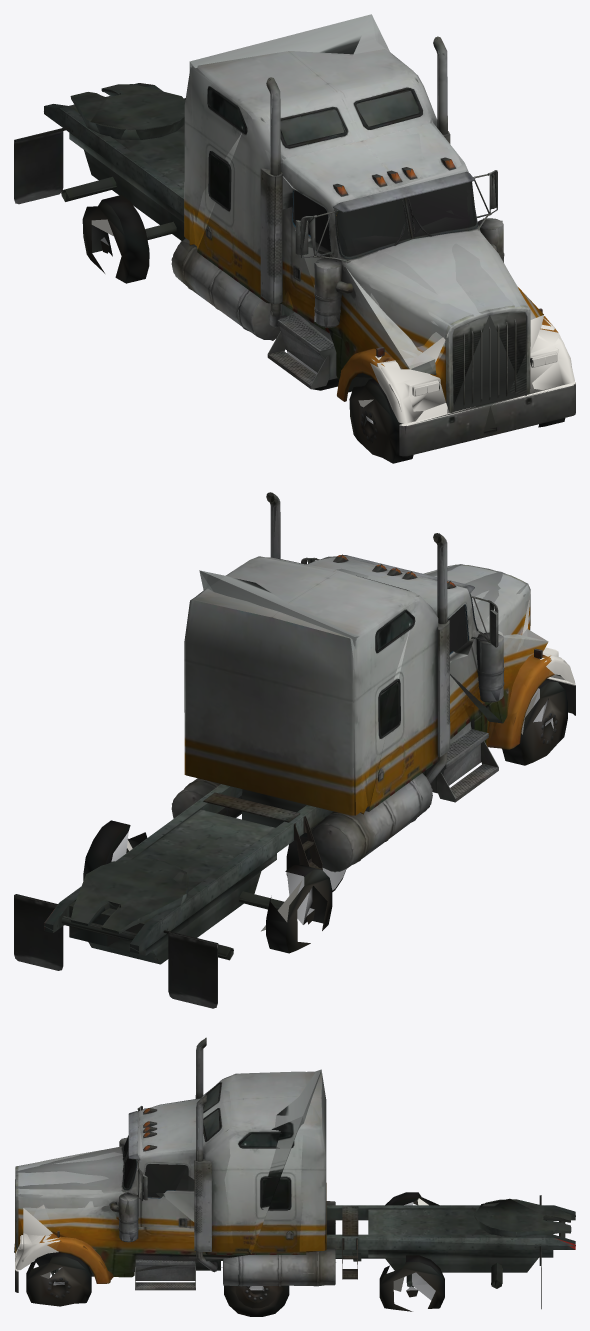
The model's file is truck5.glb.
3 renders of one model, top to bottom at view 1: azimuth 30°, elevation 25°; view 2: azimuth 150°, elevation 25°; view 3: azimuth 270°, elevation 25°, orthographic. The views are drawn at different scales.
Parts seen in each view (by area): view 1: body0, body1, body2; view 2: body0, body1, body2, wheel0; view 3: body0, body1, body2, wheel0.
Boxes of the visible parts, x1=… form: body0: x1=14, y1=36, x2=575, y2=456; body1: x1=15, y1=37, x2=574, y2=434; body2: x1=61, y1=14, x2=565, y2=463; body0: x1=14, y1=492, x2=575, y2=1008; body1: x1=44, y1=492, x2=574, y2=1007; body2: x1=62, y1=559, x2=567, y2=959; wheel0: x1=286, y1=836, x2=346, y2=891; body0: x1=15, y1=1038, x2=575, y2=1309; body1: x1=15, y1=1037, x2=575, y2=1289; body2: x1=14, y1=1069, x2=564, y2=1311; wheel0: x1=224, y1=1285, x2=289, y2=1316.
Bounding box in the file's own units: 2.22 × 3.6 × 7.42.
4 materials, 1 textured.
